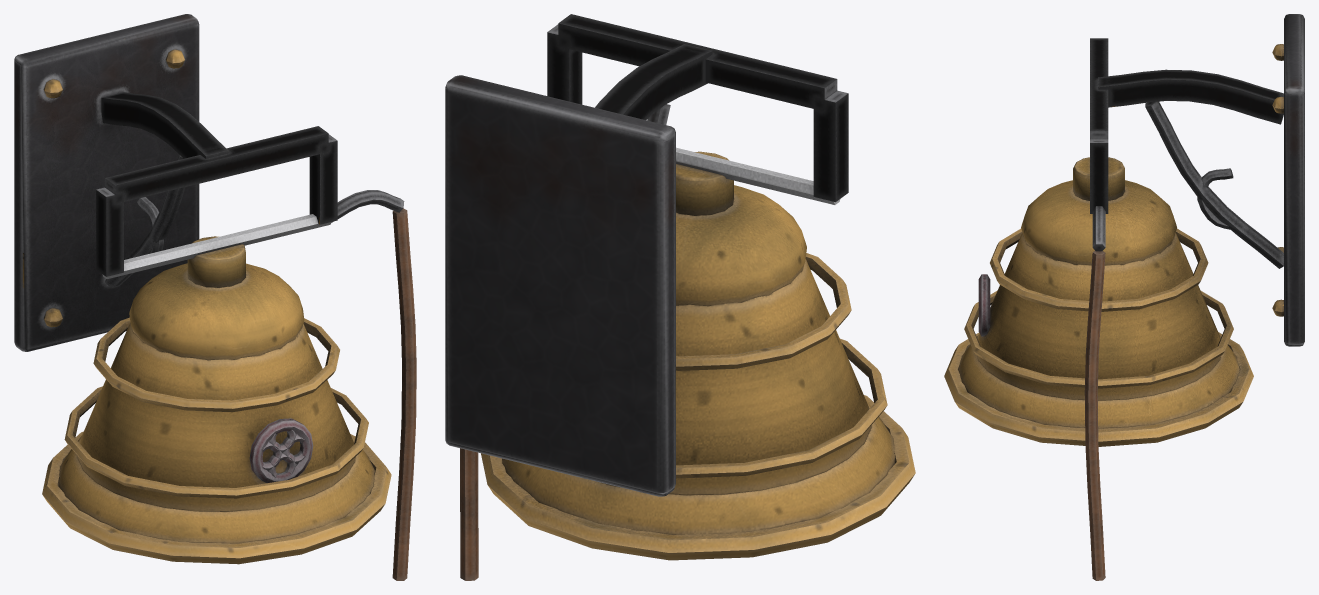
The model's file is SchoolBell.fbx.
3 views of the same model, side by side, from view 1: azimuth 30°, elevation 25°; view 2: azimuth 150°, elevation 25°; view 3: azimuth 270°, elevation 25° (orthographic). The views are drawn at different scales.
Parts seen in each view (by area): view 1: SchoolBell_Bell, SchoolBell_Bracket; view 2: SchoolBell_Bracket, SchoolBell_Bell; view 3: SchoolBell_Bell, SchoolBell_Bracket.
Boxes of the visible parts, <box> form: SchoolBell_Bell: <box>42,190,416,580</box>; SchoolBell_Bracket: <box>14,14,337,351</box>; SchoolBell_Bracket: <box>445,14,848,496</box>; SchoolBell_Bell: <box>460,147,915,580</box>; SchoolBell_Bell: <box>944,157,1253,580</box>; SchoolBell_Bracket: <box>1090,14,1304,346</box>.
Bounding box in the file's own units: 136 × 190 × 139.
